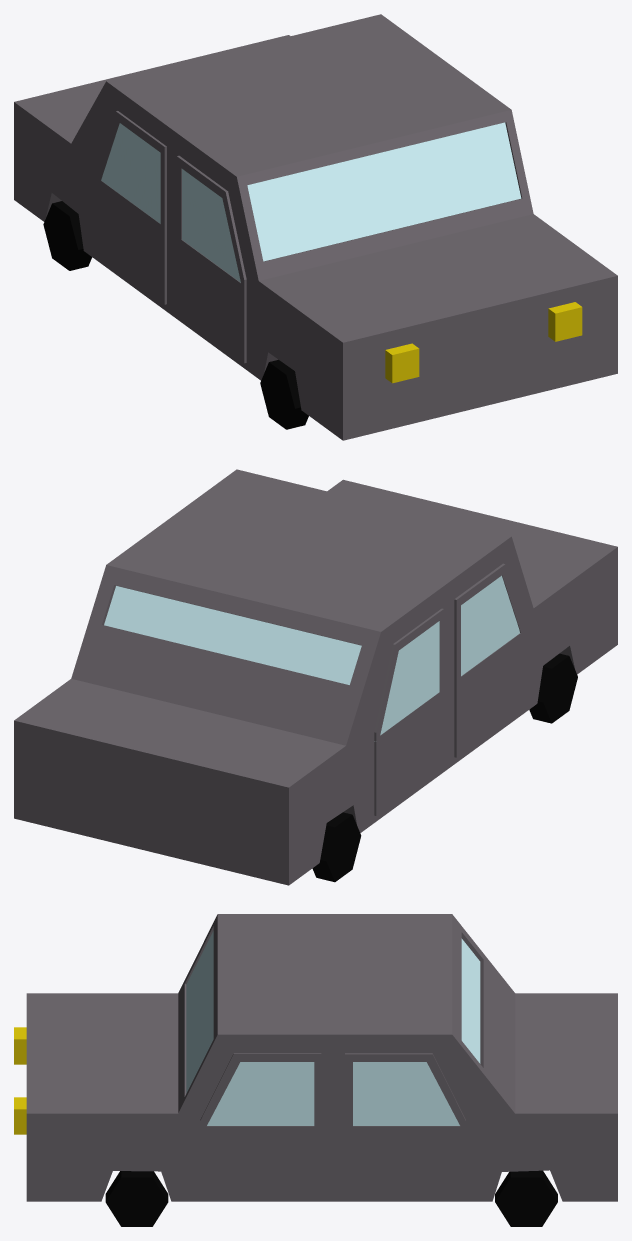
File: Coche  Gris.fbx
3 views of the same model, one above another, from view 1: azimuth 30°, elevation 25°; view 2: azimuth 150°, elevation 25°; view 3: azimuth 270°, elevation 25° (orthographic). The views are drawn at different scales.
Visible parts, largest first — view 1: Cube, Cube.010, Cube.004, Cube.005, Cube.009, Cube.008, Cube.002, Cylinder.002, Cylinder.003; view 2: Cube, Cube.011, Cube.005, Cube.004, Cube.009, Cube.008, Cylinder.003, Cylinder.002; view 3: Cube, Cube.001, Cube.003, Cube.006, Cube.007, Cube.010, Cylinder, Cylinder.001, Cube.011, Cube.002.
Part boxes in pixels (<box>): Cube: <box>14,14,617,440</box>; Cube.010: <box>247,122,521,261</box>; Cube.004: <box>176,155,246,363</box>; Cube.005: <box>97,111,166,304</box>; Cube.009: <box>101,123,160,223</box>; Cube.008: <box>182,169,240,282</box>; Cube.002: <box>385,302,582,383</box>; Cylinder.002: <box>260,359,308,429</box>; Cylinder.003: <box>43,201,92,270</box>; Cube: <box>14,469,617,885</box>; Cube.011: <box>104,586,361,684</box>; Cube.005: <box>374,608,443,815</box>; Cube.004: <box>454,563,523,757</box>; Cube.009: <box>374,621,439,741</box>; Cube.008: <box>461,575,519,675</box>; Cylinder.003: <box>312,812,361,882</box>; Cylinder.002: <box>529,653,577,723</box>; Cube: <box>26,914,617,1201</box>; Cube.001: <box>345,1053,465,1196</box>; Cube.003: <box>200,1053,321,1195</box>; Cube.006: <box>207,1062,314,1125</box>; Cube.007: <box>353,1062,459,1125</box>; Cube.010: <box>186,931,213,1093</box>; Cylinder: <box>105,1171,168,1226</box>; Cylinder.001: <box>495,1170,557,1226</box>; Cube.011: <box>461,938,480,1063</box>; Cube.002: <box>14,1027,26,1134</box>.
Size of the model in its own units: 173 by 125 by 358.
